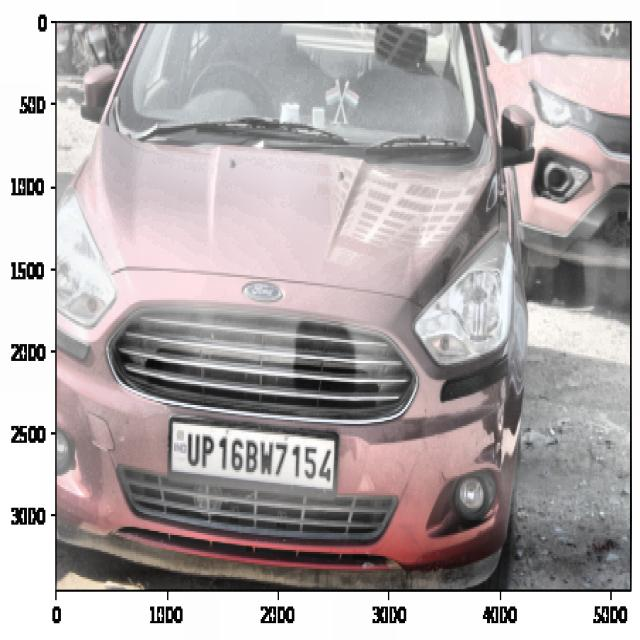license_plate: (182, 422, 337, 489)
